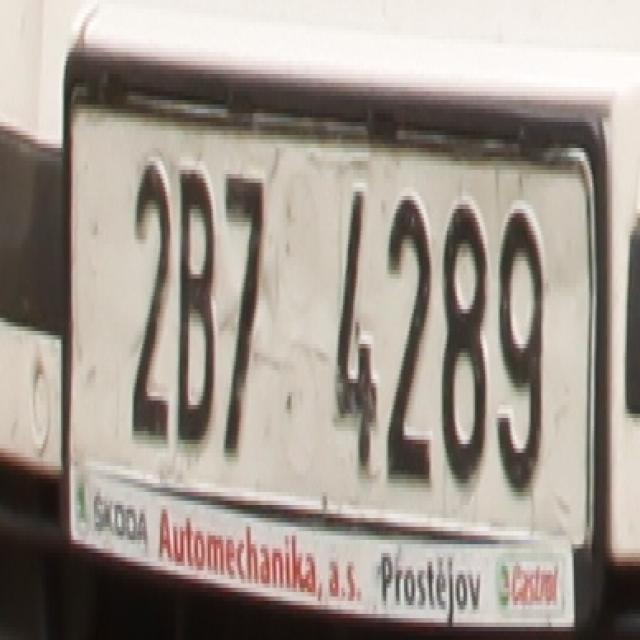2: (381, 187, 432, 483), (130, 152, 172, 448)
4: (333, 166, 381, 470)
7: (221, 157, 266, 466)
8: (437, 178, 488, 492)
9: (495, 200, 546, 497)
B: (175, 156, 216, 444)
